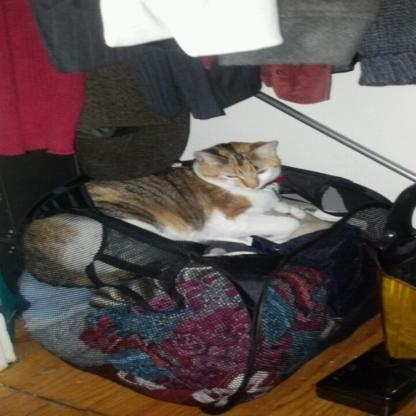Target: (12, 136, 321, 291)
